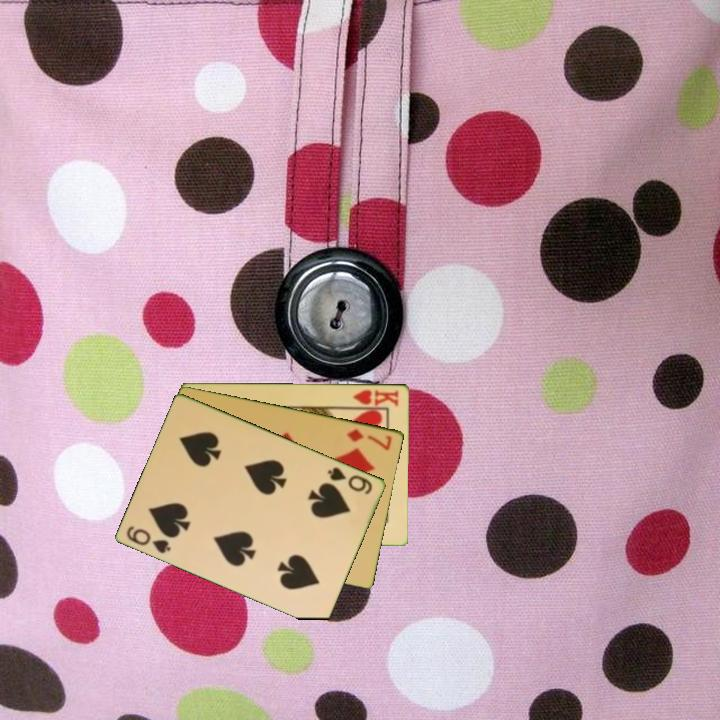6s: (324, 463, 375, 497), (123, 522, 174, 556)
7d: (343, 425, 395, 453)
Kh: (347, 386, 402, 410)
